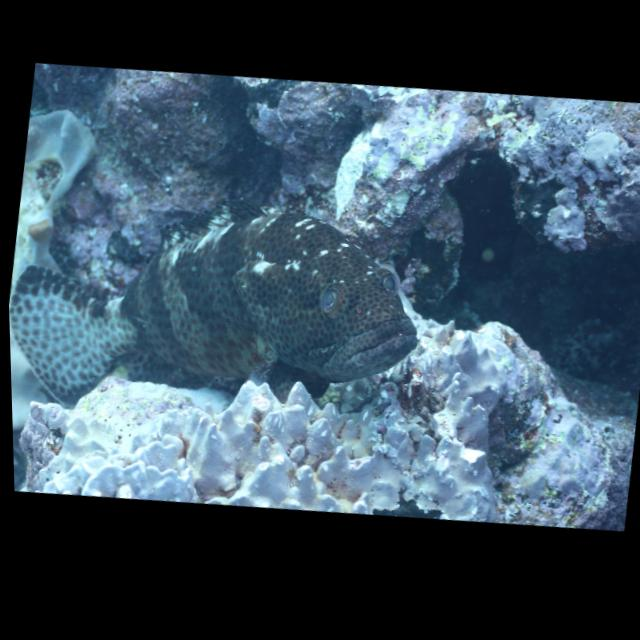Groupers: (6, 156, 442, 457)
